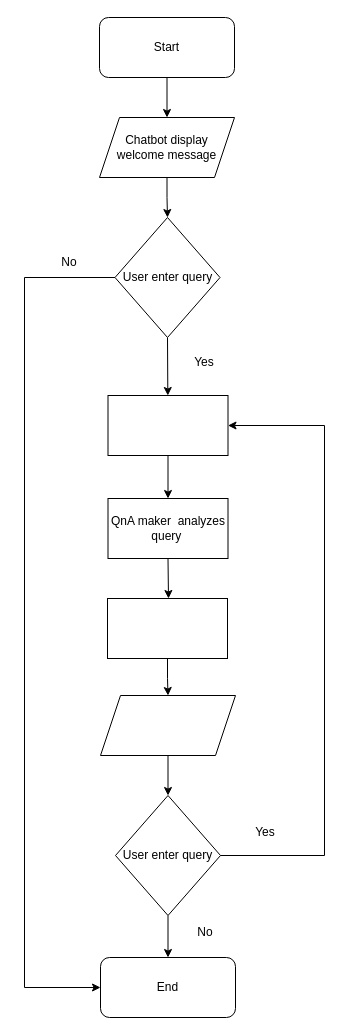
Some shapes in this 350 by 1035 pixel diagram are drawn without their labels. The box of each missing label's shape, as (x1, y1, x2, y2) in pixels:
Chatbot display the message: (100, 694, 236, 756)
Send answer using an inbound POST request with a 200 HTTP status code: (106, 598, 228, 658)
Send query using HTTP Post request: (107, 394, 228, 456)
